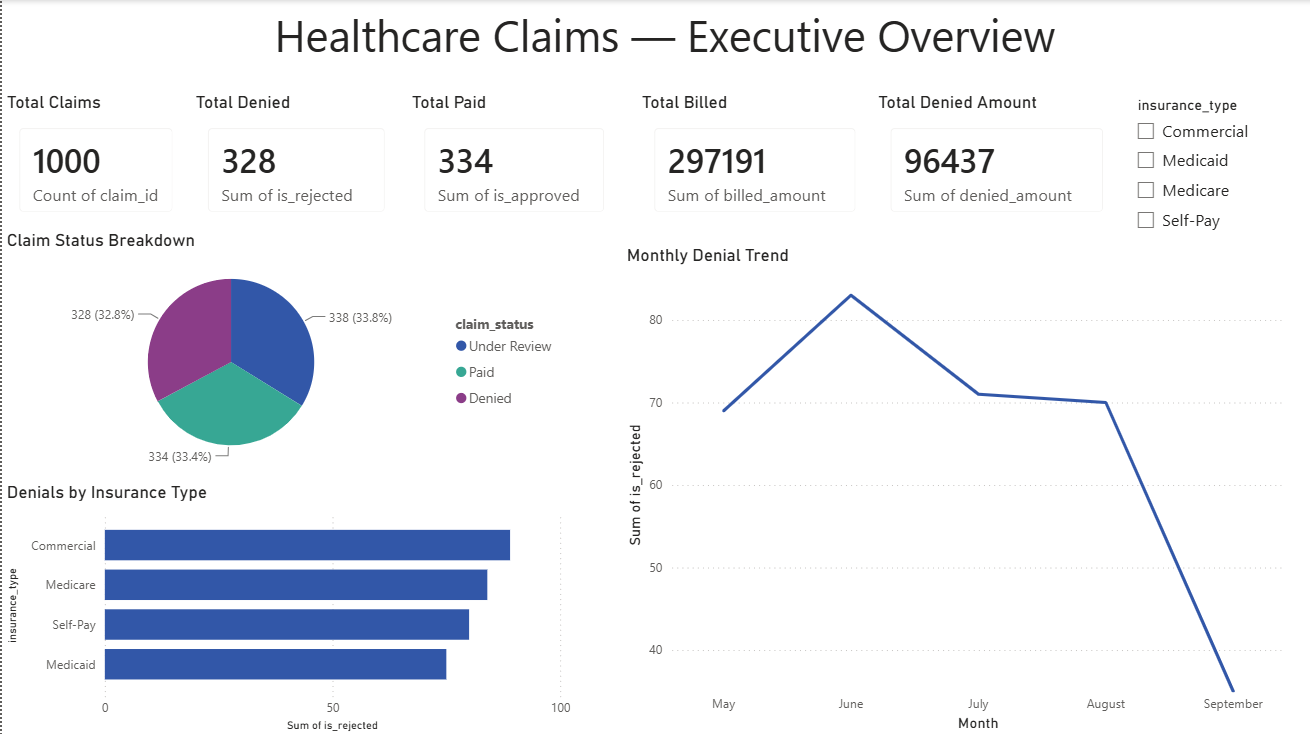

The dashboard page shown, as its layout file describes it:
{"tool":"powerbi","page":{"name":"Executive Overview","canvas":[1280,720],"ordinal":0},"visuals":[{"type":"cardVisual","title":"Total Claims","fields":{"Data":["CountNonNull(claims_final.claim_id)"]},"box":[14.5,62.7,185.8,150.8],"z":0},{"type":"cardVisual","title":"Total Denied","fields":{"Data":["Sum(claims_final.is_rejected)"]},"box":[212.3,62.7,197.9,150.8],"z":1000},{"type":"cardVisual","title":"Total Paid","fields":{"Data":["Sum(claims_final.is_approved)"]},"box":[422.3,62.7,199.1,150.8],"z":2000},{"type":"cardVisual","title":"Total Billed","fields":{"Data":["Sum(claims_final.billed_amount)"]},"box":[639.4,62.7,212.3,150.8],"z":3000},{"type":"cardVisual","title":"Total Denied Amount","fields":{"Data":["Sum(claims_final.denied_amount)"]},"box":[860.2,62.7,223.2,150.8],"z":4000},{"type":"pieChart","title":"Claim Status Breakdown","fields":{"Category":["claims_final.claim_status"],"Y":["CountNonNull(claims_final.claim_id)"]},"box":[14.5,226.8,569.4,231.6],"z":5000},{"type":"clusteredBarChart","title":"Denials by Insurance Type","fields":{"Category":["claims_final.insurance_type"],"Y":["Sum(claims_final.is_rejected)"]},"box":[14.5,470.5,569.4,223.2],"z":6000},{"type":"lineChart","title":"Monthly Denial Trend","fields":{"Category":["claims_final.month_label.Variation.Date Hierarchy.Month"],"Y":["Sum(claims_final.is_rejected)"]},"box":[596,226.8,674.4,466.9],"z":7000},{"type":"textbox","box":[401.7,0,495.8,53.1],"z":8000},{"type":"listSlicer","fields":{"Values":["claims_final.insurance_type"]},"box":[1089.4,63.9,181,150.8],"z":9001}]}

Visuals, with their boxes in screenshot pixels (x1, y1, x2, y2), scaled from the page's 1280x720 canvas onto the 1310x734 screenshot:
"Total Claims" cardVisual: detection(15, 64, 205, 218)
"Total Denied" cardVisual: detection(217, 64, 420, 218)
"Total Paid" cardVisual: detection(432, 64, 636, 218)
"Total Billed" cardVisual: detection(654, 64, 872, 218)
"Total Denied Amount" cardVisual: detection(880, 64, 1109, 218)
"Claim Status Breakdown" pieChart: detection(15, 231, 598, 467)
"Denials by Insurance Type" clusteredBarChart: detection(15, 480, 598, 707)
"Monthly Denial Trend" lineChart: detection(610, 231, 1300, 707)
textbox: detection(411, 0, 919, 54)
listSlicer - claims_final.insurance_type: detection(1115, 65, 1300, 219)
